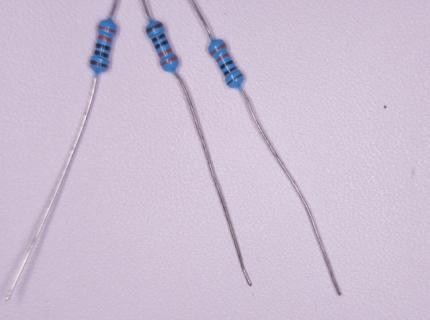Orange band: (210, 43, 227, 56), (161, 56, 177, 66), (99, 26, 116, 34), (158, 48, 172, 57), (217, 53, 229, 63), (98, 35, 112, 43)
